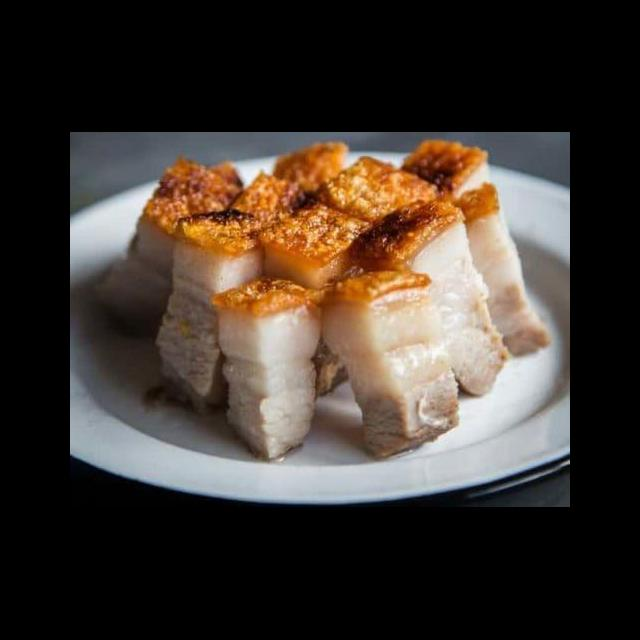thit heo quay: (347, 196, 518, 400), (311, 262, 467, 462), (89, 154, 247, 333), (150, 205, 282, 418), (253, 202, 388, 402), (206, 272, 330, 466), (423, 178, 554, 360), (312, 153, 448, 264), (400, 137, 493, 220), (226, 167, 312, 230)
